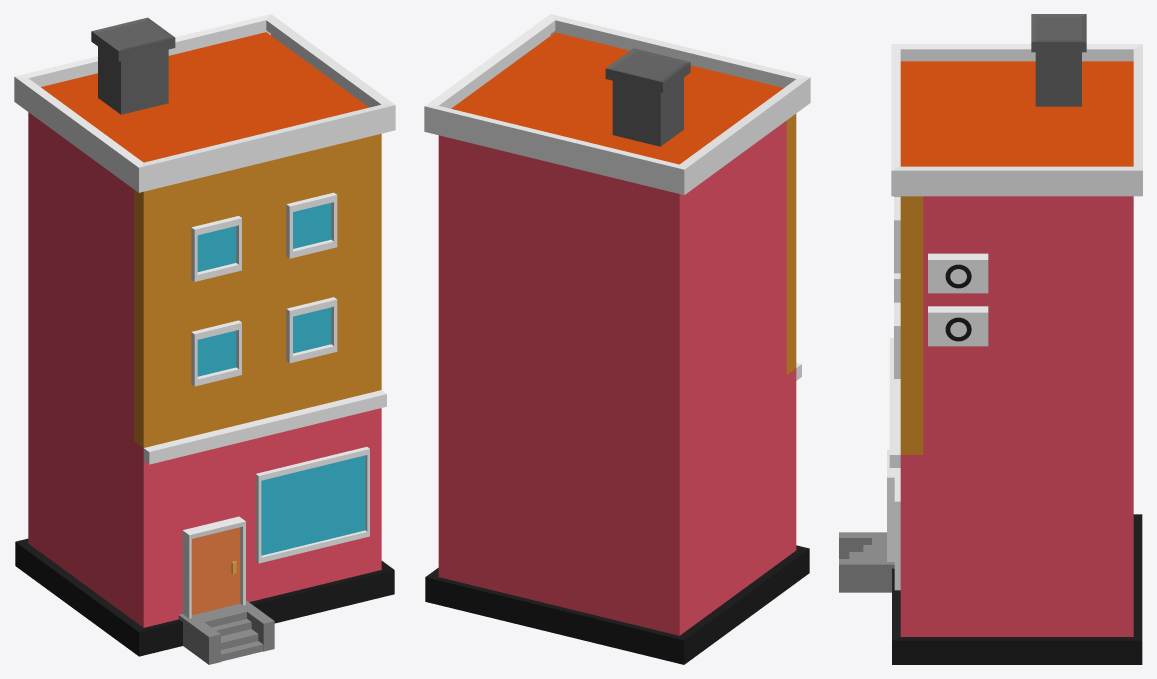
The model's file is building_pink.fbx.
3 renders of one model, left to right at view 1: azimuth 30°, elevation 25°; view 2: azimuth 150°, elevation 25°; view 3: azimuth 270°, elevation 25°, orthographic.
Visible parts, largest first — view 1: buiilding, another_Color, white., top_floor, glass, black, chimney, stair, door; view 2: buiilding, white., top_floor, black, chimney, another_Color; view 3: buiilding, top_floor, white., black, another_Color, chimney, stair.
Part boxes in pixels (x1,y1,x2,y2): buiilding: [28, 112, 381, 627]; another_Color: [134, 133, 381, 447]; white.: [14, 14, 395, 618]; top_floor: [41, 32, 368, 162]; glass: [197, 203, 365, 555]; black: [15, 538, 394, 656]; chimney: [91, 17, 175, 114]; stair: [178, 600, 274, 664]; door: [191, 527, 240, 615]; buiilding: [438, 121, 796, 635]; white.: [424, 14, 810, 380]; top_floor: [451, 32, 783, 164]; black: [425, 545, 809, 664]; chimney: [605, 48, 690, 146]; another_Color: [786, 114, 796, 374]; buiilding: [900, 196, 1133, 636]; top_floor: [900, 61, 1133, 166]; white.: [887, 44, 1142, 590]; black: [892, 264, 1142, 664]; another_Color: [900, 196, 923, 454]; chimney: [1031, 14, 1086, 106]; stair: [839, 532, 894, 592].
Bounding box in the file's own units: 1131 × 2249 × 1129.
